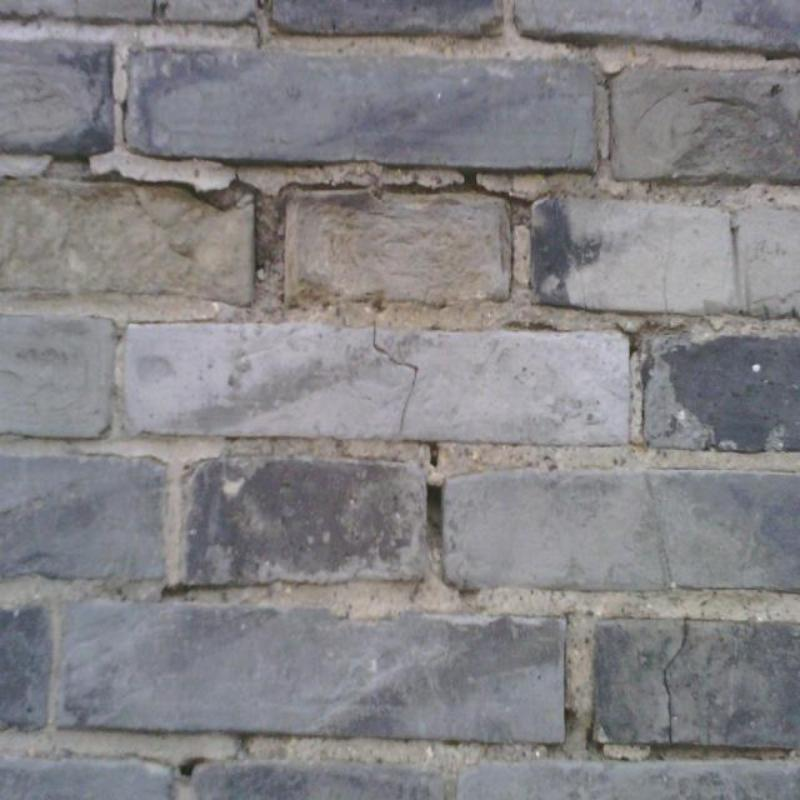pothole: (79, 166, 284, 270), (276, 168, 535, 208), (373, 322, 419, 434), (663, 622, 689, 746), (426, 486, 444, 534), (180, 758, 202, 774), (120, 100, 127, 141), (429, 440, 439, 468)
